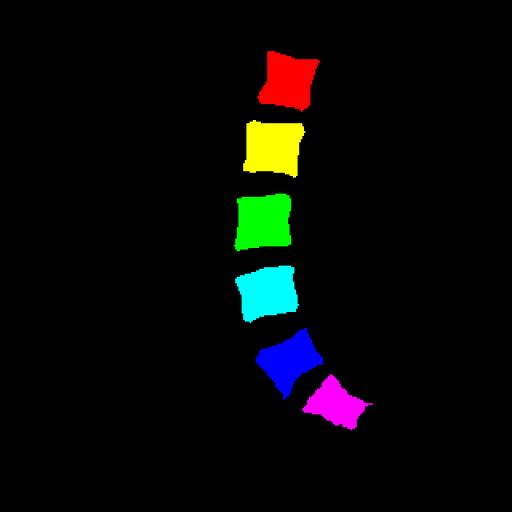L1: (259, 51, 319, 111)
L2: (243, 120, 304, 177)
L3: (234, 194, 291, 251)
L4: (235, 267, 298, 322)
L5: (256, 328, 323, 398)
S1: (302, 374, 372, 430)
